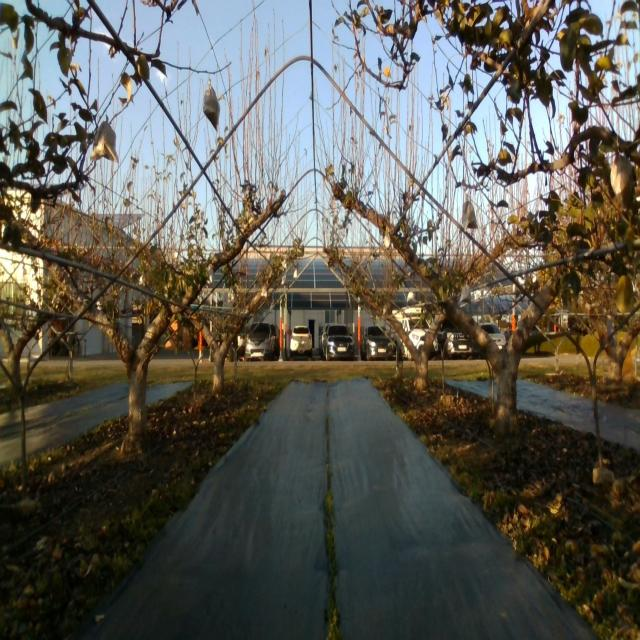pearbags: (610, 154, 636, 211), (90, 121, 118, 164), (203, 84, 221, 132), (462, 200, 477, 231), (460, 284, 472, 308)
